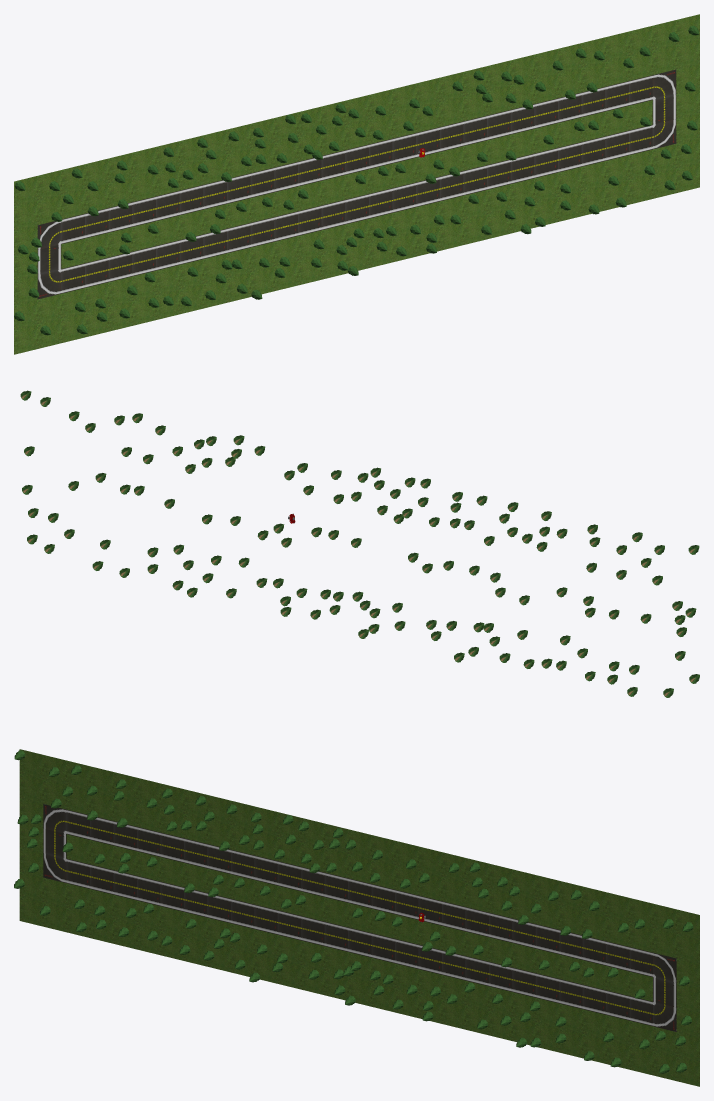
The model's file is main.glb.
The picture shows the model from 3 angles, top to bottom: view 1: azimuth 30°, elevation 25°; view 2: azimuth 150°, elevation 25°; view 3: azimuth 330°, elevation 25°; orthographic projection.
Visible parts, largest first — view 1: tile-16-2, tile-7-4, tile-10-2, tile-24-2, tile-24-1, tile-10-4, tile-16-4, tile-18-4, tile-27-3, tile-27-2, tile-18-5, tile-27-5 (+164 smaller); view 2: no part large enough to name; view 3: tile-0-5, tile-11-4, tile-22-4, tile-11-2, tile-22-2, tile-24-2, tile-24-1, tile-24-4, tile-0-0, tile-25-6, tile-18-5, tile-27-5 (+160 smaller).
Part boxes in pixels (box(x1,y1,x2,y2)): tile-16-2: box(392, 182, 416, 212); tile-7-4: box(179, 185, 203, 215); tile-10-2: box(250, 217, 274, 247); tile-24-2: box(581, 136, 605, 166); tile-24-1: box(581, 161, 605, 191); tile-10-4: box(250, 167, 274, 197); tile-16-4: box(392, 133, 416, 163); tile-18-4: box(439, 121, 463, 151); tile-27-3: box(652, 94, 676, 124); tile-27-2: box(652, 119, 676, 149); tile-18-5: box(439, 97, 463, 126); tile-27-5: box(652, 45, 676, 74); tile-0-5: box(19, 773, 43, 803); tile-11-4: box(277, 861, 301, 891); tile-22-4: box(535, 924, 559, 954); tile-11-2: box(277, 910, 301, 940); tile-22-2: box(535, 973, 559, 1003); tile-24-2: box(582, 985, 606, 1014); tile-24-1: box(582, 1009, 606, 1038); tile-24-4: box(582, 937, 606, 965); tile-0-0: box(19, 896, 43, 926); tile-25-6: box(606, 892, 629, 922); tile-18-5: box(442, 876, 465, 906); tile-27-5: box(653, 928, 676, 958).
Size of the model in its own units: 17 by 4.16 by 0.3574.
12 materials, 5 textured.
